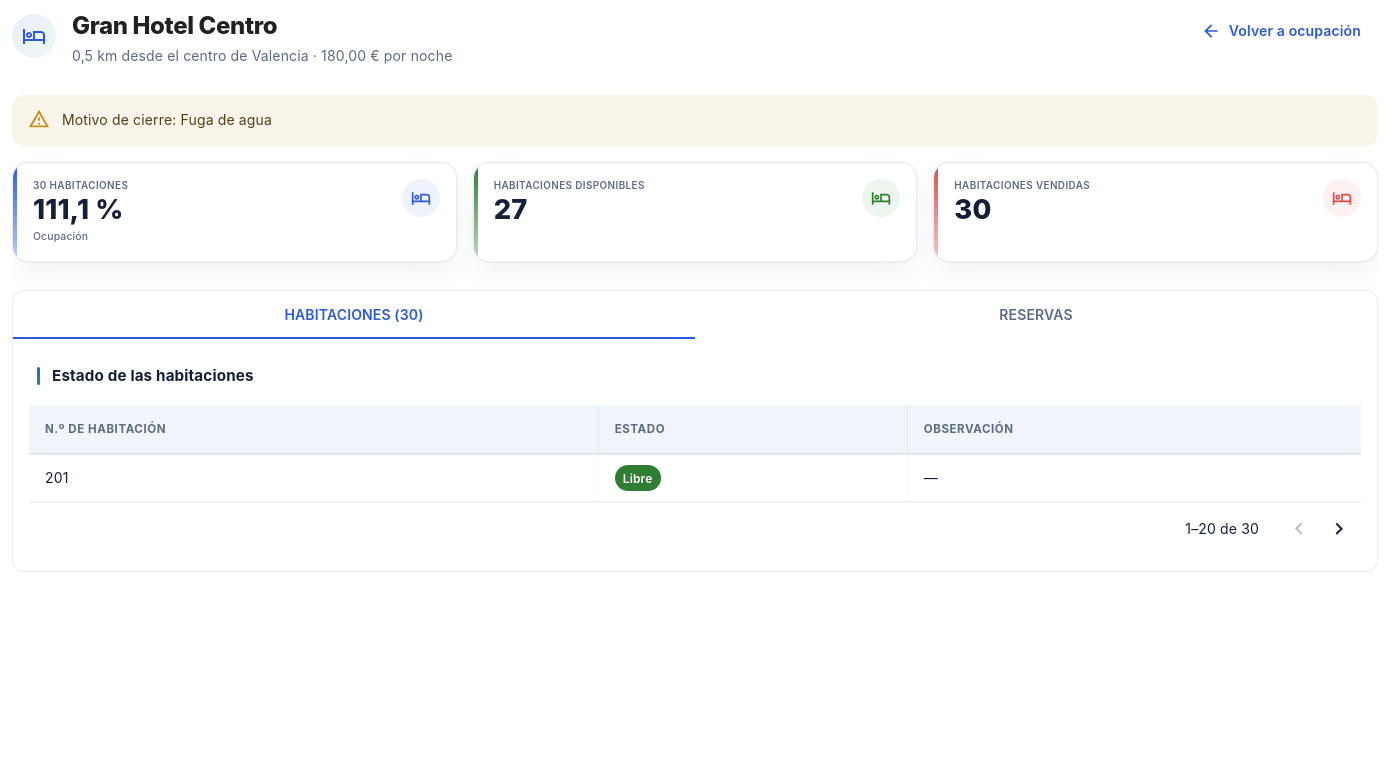
Test case: pantallas de ocupación y reubicación › permite a Consulta leer las cancelaciones con su auditoría, sin controles de escritura
expect the heading "Gran Hotel Centro" is shown: met, box x1=72 y1=11 x2=277 y2=40
Click the tab "Reservas" at [1036, 315], box x1=695 y1=291 x2=1377 y2=339
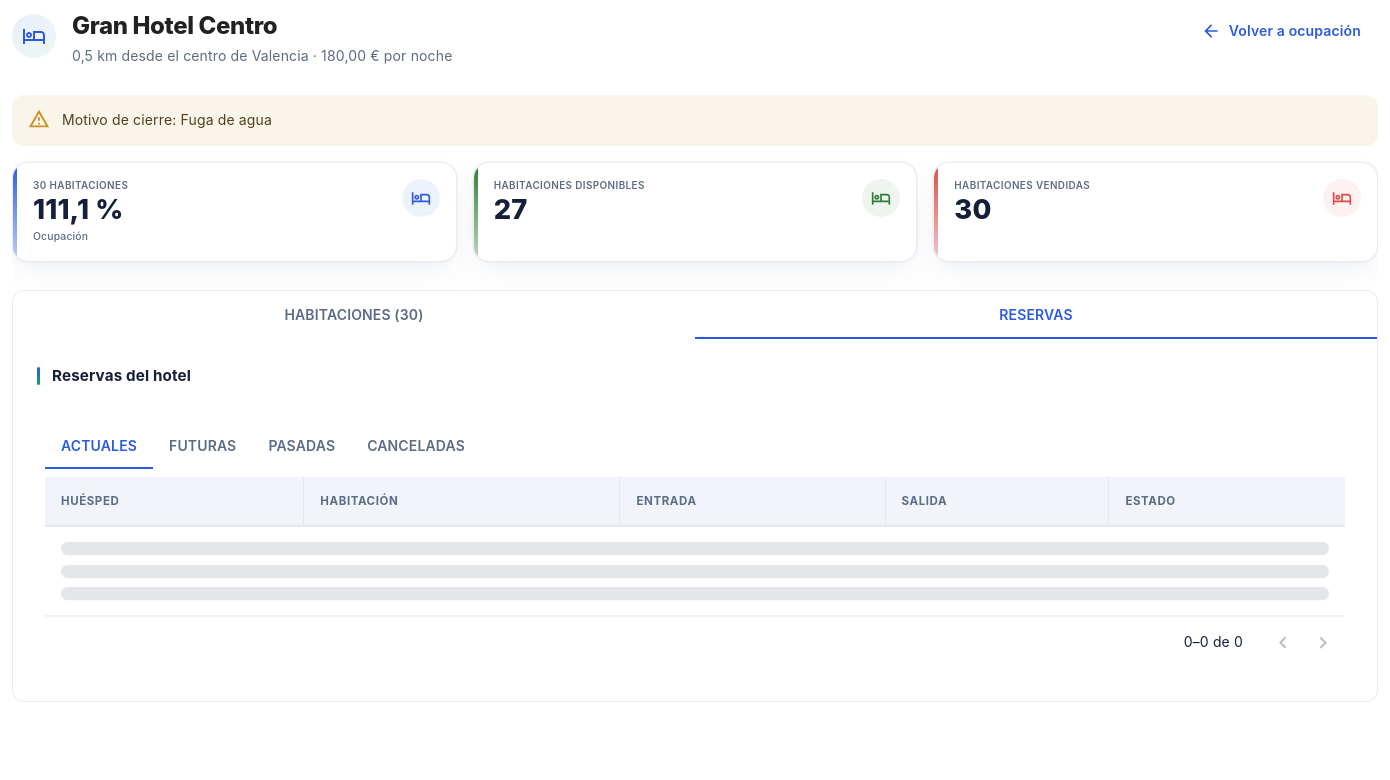
Click the tab "Canceladas" at [416, 445], box x1=351 y1=421 x2=481 y2=469
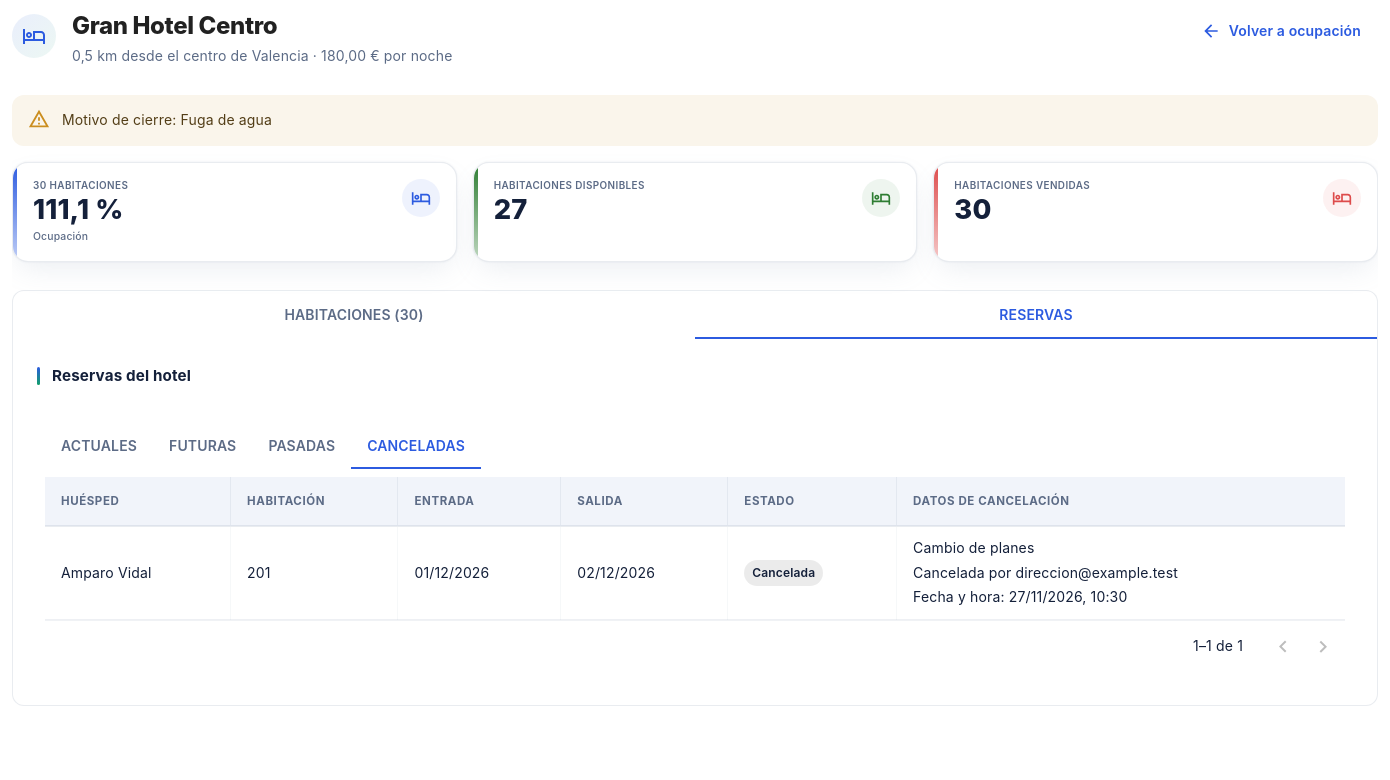
expect the text "Cambio de planes" is shown: met, box x1=913 y1=539 x2=1034 y2=556
expect the text "Cancelada por direccion@example.test" is shown: met, box x1=913 y1=564 x2=1178 y2=581
